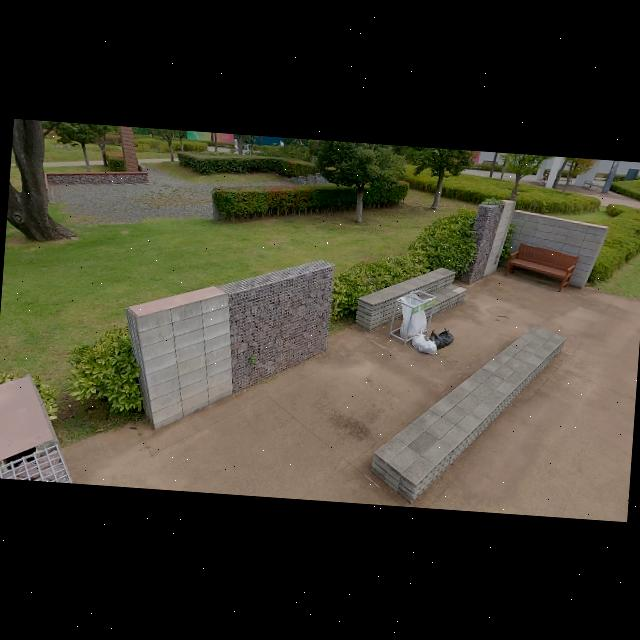trash: (426, 329, 446, 351), (409, 328, 426, 352), (418, 336, 438, 356), (436, 327, 454, 348)
